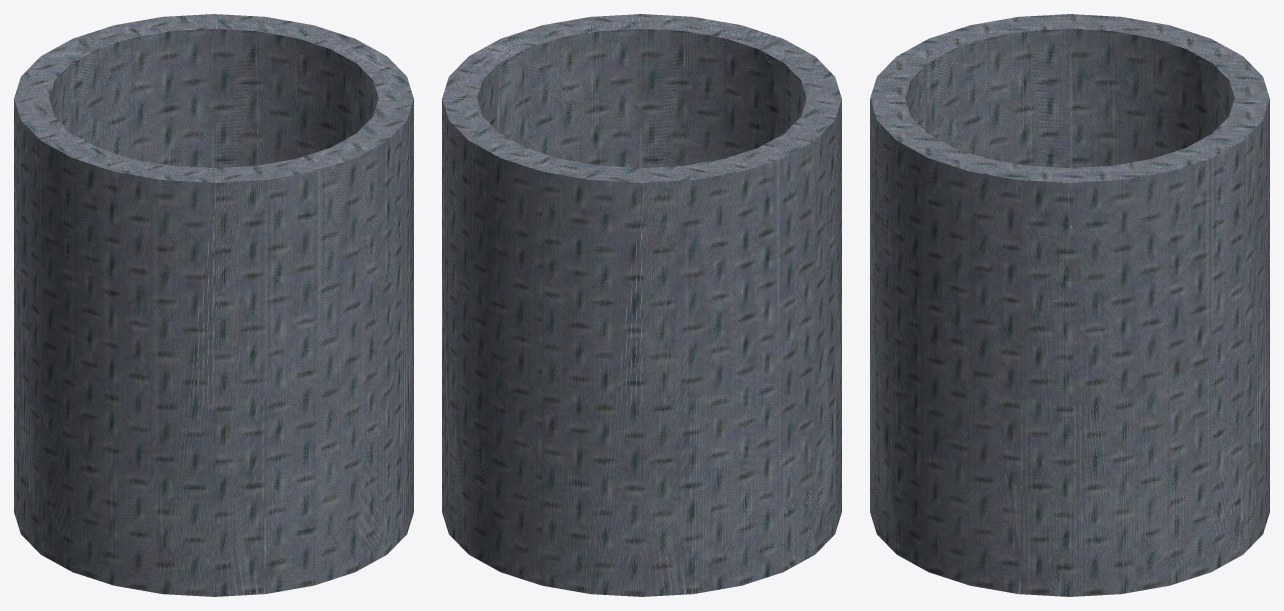
The model's file is tacho_basura.fbx.
3 renders of one model, left to right at view 1: azimuth 30°, elevation 25°; view 2: azimuth 150°, elevation 25°; view 3: azimuth 270°, elevation 25°, orthographic.
Visible parts, largest first — view 1: Model; view 2: Model; view 3: Model.
Boxes of the visible parts, bbox=[...] form: Model: bbox=[14, 14, 413, 596]; Model: bbox=[442, 14, 841, 596]; Model: bbox=[870, 14, 1269, 596].
Bounding box in the file's own units: 0.7 × 0.8 × 0.7.
